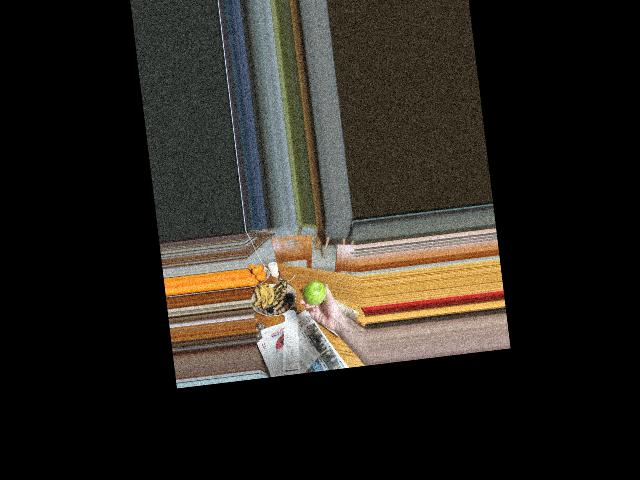apple: (300, 277, 328, 306)
